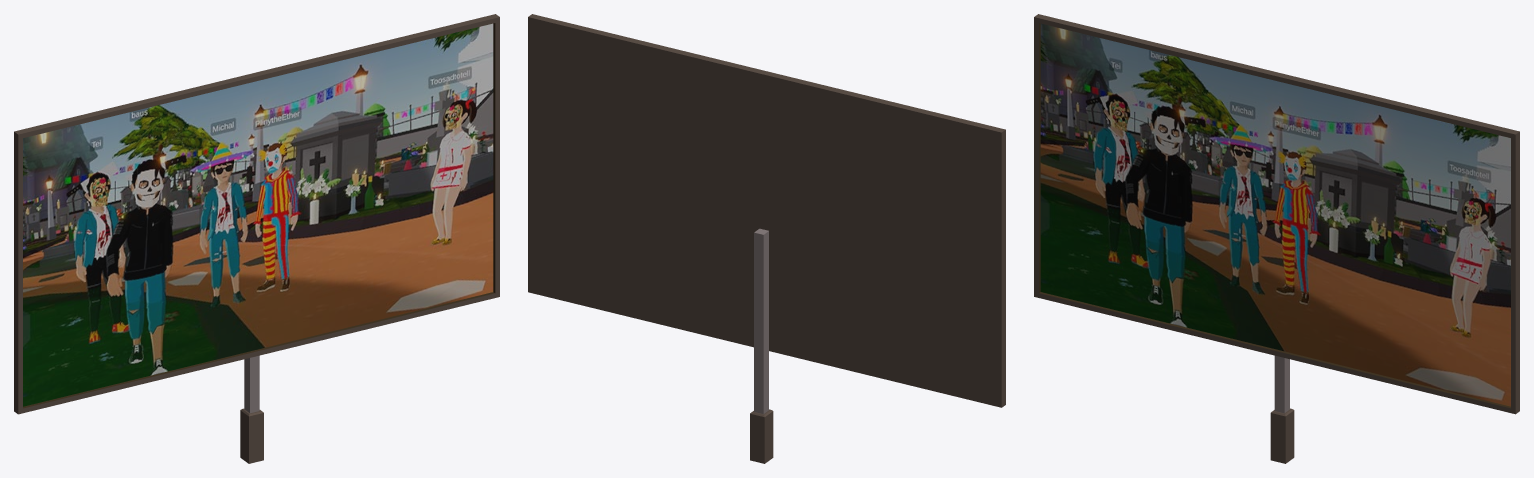
Rendered from halloween_event.glb.
The picture shows the model from 3 angles, left to right: view 1: azimuth 30°, elevation 25°; view 2: azimuth 150°, elevation 25°; view 3: azimuth 330°, elevation 25°; orthographic projection.
Visible parts, largest first — view 1: halloween_event; view 2: halloween_event; view 3: halloween_event.
Part boxes in pixels (box(x1,y1,x2,y2)): halloween_event: box(14, 14, 499, 463); halloween_event: box(528, 14, 1005, 463); halloween_event: box(1034, 14, 1519, 463).
Size of what is drawn, in the model's own units: 7.01 by 5.4 by 0.2937.
2 materials, 2 textured.
